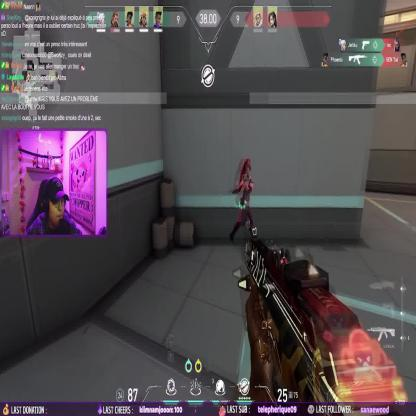enemy: (230, 159, 256, 244)
enemy_head: (245, 162, 251, 176)
